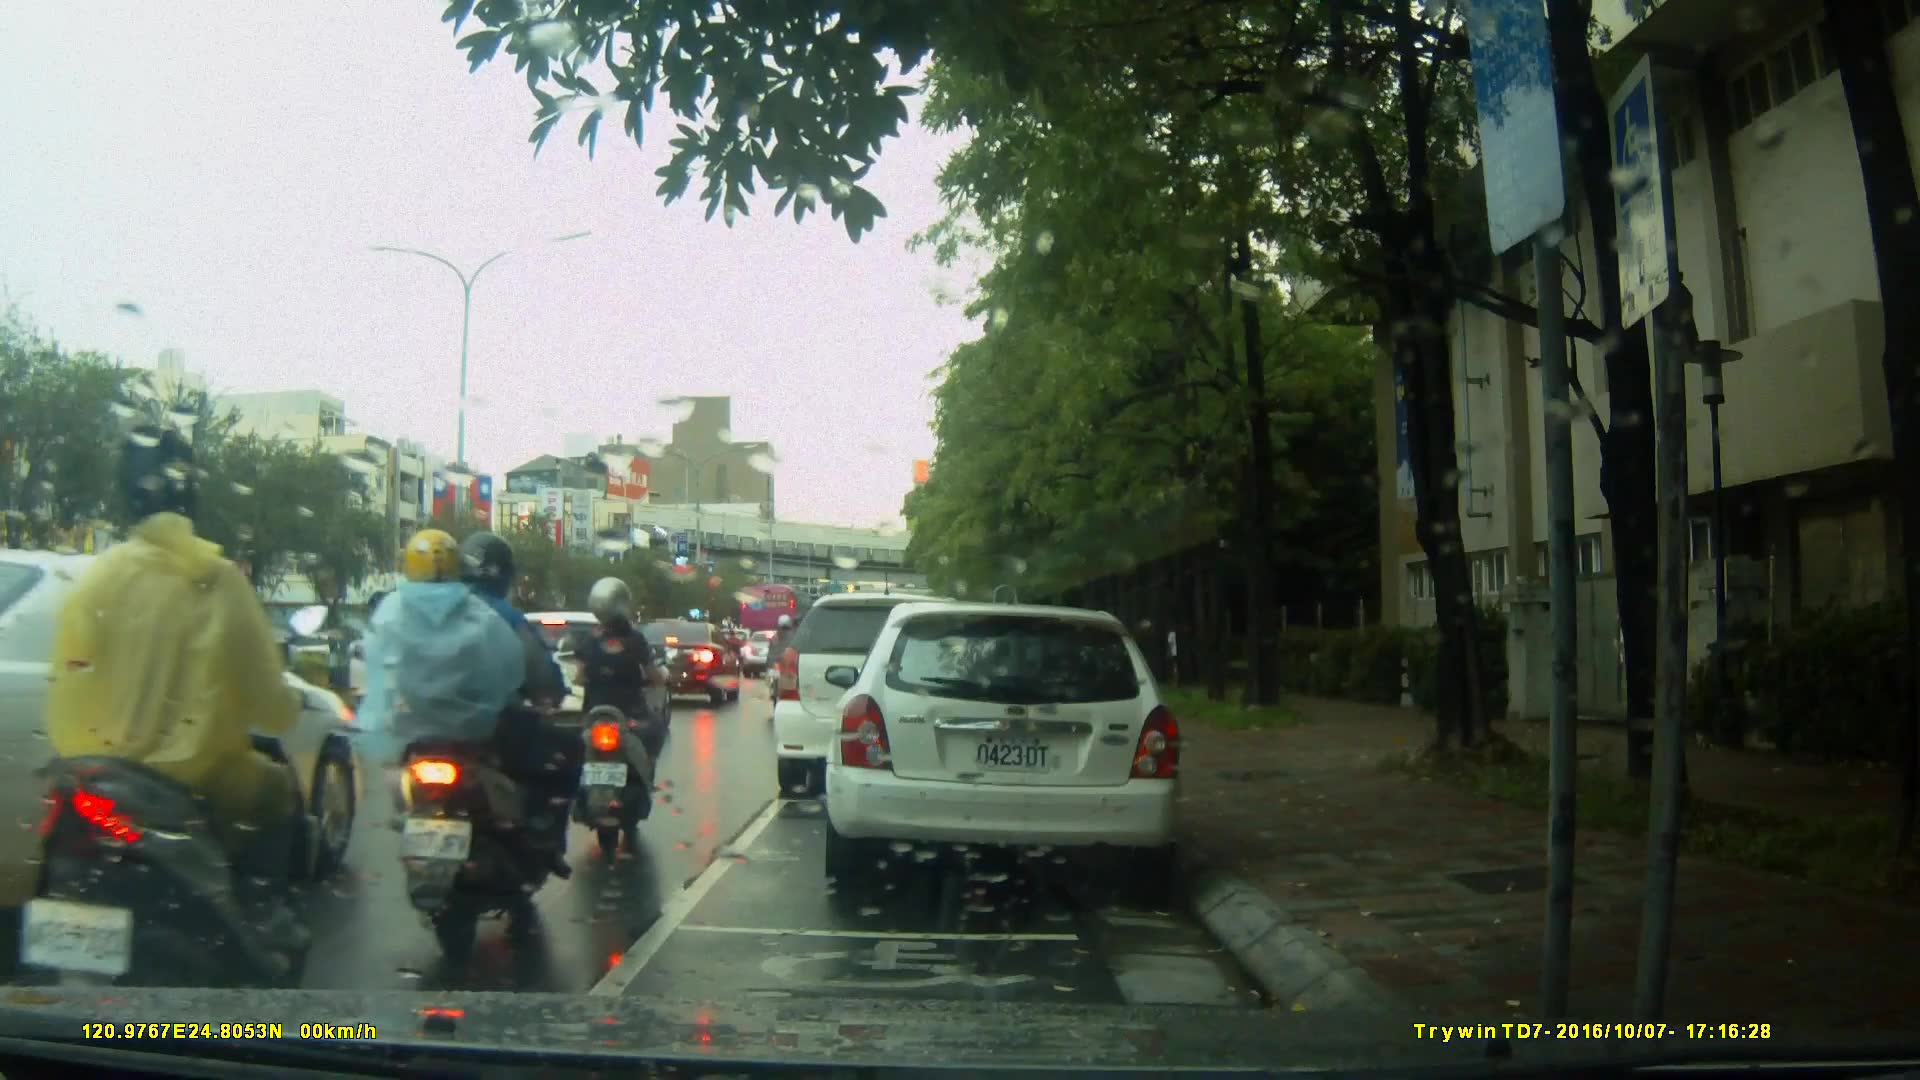rider: (47, 412, 340, 1035), (348, 527, 567, 960), (557, 577, 681, 858), (763, 612, 803, 713)
vehicle: (1, 524, 361, 925), (835, 594, 1194, 898), (776, 590, 1026, 784), (473, 608, 676, 744), (623, 621, 744, 707), (740, 583, 816, 654)
